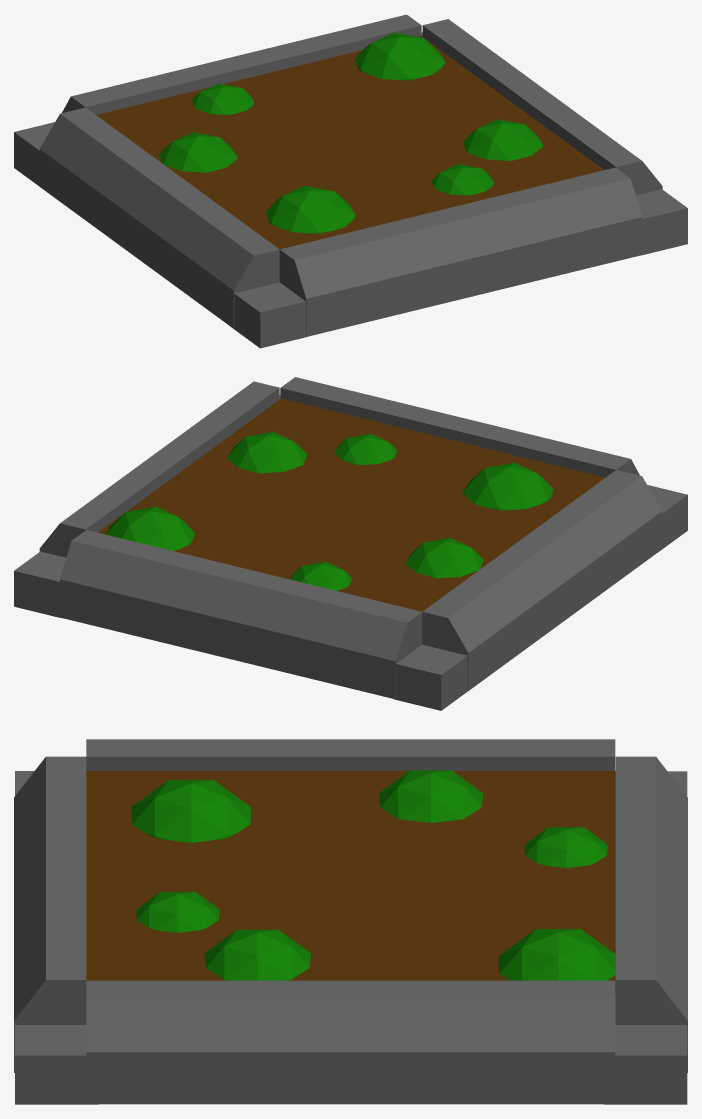
The model's file is treebed.fbx.
3 renders of one model, top to bottom at view 1: azimuth 30°, elevation 25°; view 2: azimuth 150°, elevation 25°; view 3: azimuth 270°, elevation 25°, orthographic. The views are drawn at different scales.
Parts seen in each view (by area): view 1: Cube; view 2: Cube; view 3: Cube.
Part boxes in pixels (<box>): Cube: <box>14,14,687,348</box>; Cube: <box>14,377,687,710</box>; Cube: <box>14,739,687,1104</box>.
Bounding box in the file's own units: 442 × 95.31 × 442.
